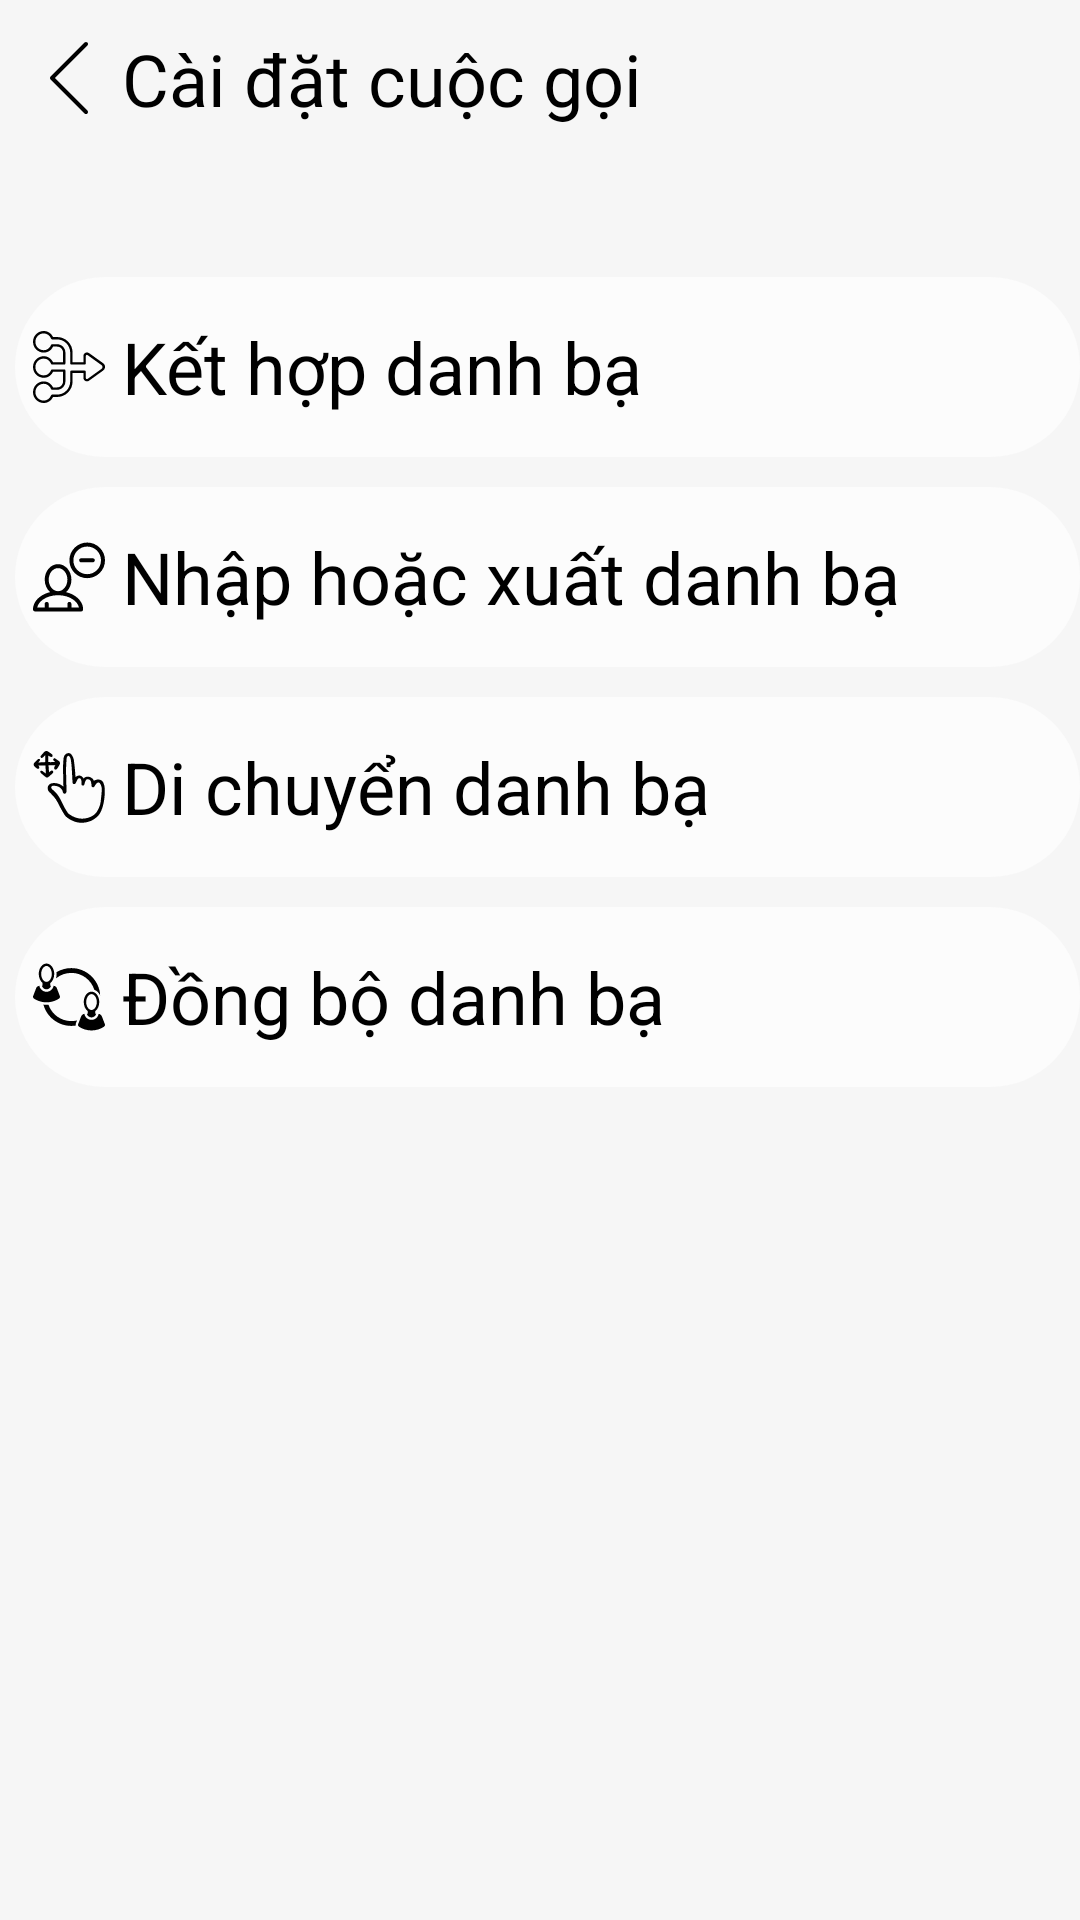

Icons on this 1080x1920 Android screen, each with the point to tap as (x=x, y=y):
backmsg: (x=69, y=78)
move: (x=69, y=787)
resource synchronized: (x=69, y=997)
